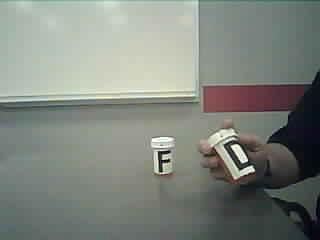Bottle D: (206, 128, 258, 186)
Bottle F: (148, 131, 178, 179)
